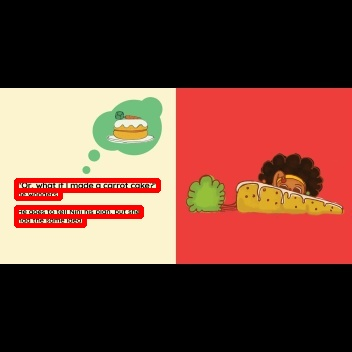latin: (16, 180, 158, 190), (16, 207, 141, 216), (16, 216, 84, 225), (16, 190, 60, 198)
